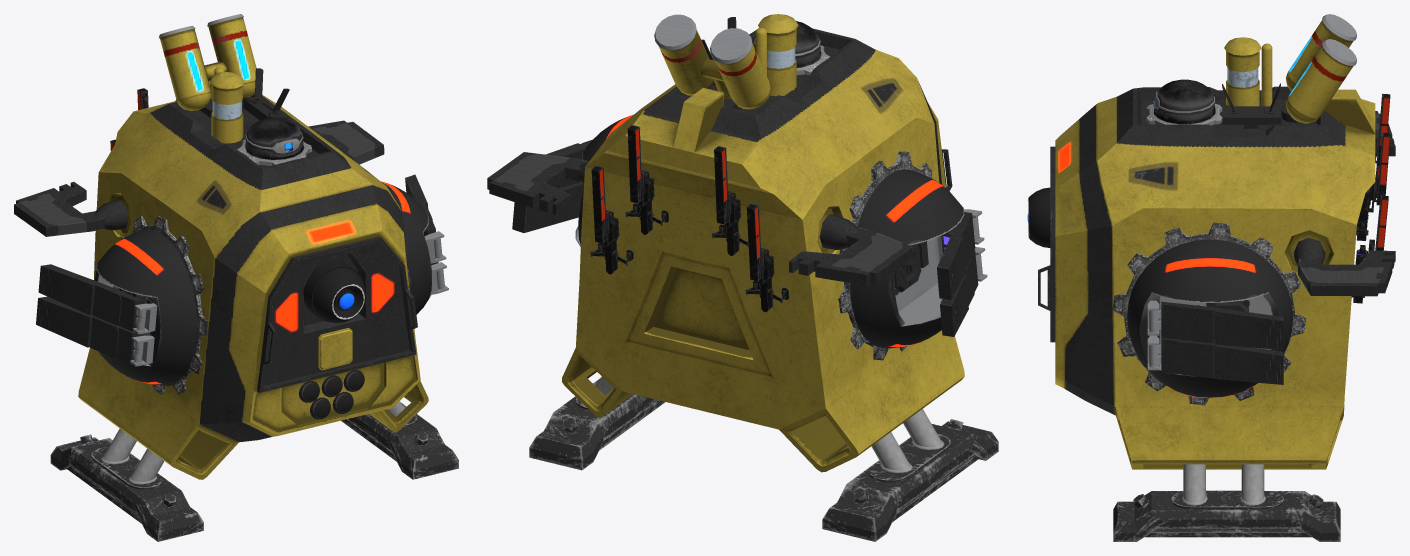
Rendered from Penguin_Green.glb.
3 views of the same model, side by side, from view 1: azimuth 30°, elevation 25°; view 2: azimuth 150°, elevation 25°; view 3: azimuth 270°, elevation 25° (orthographic). The views are drawn at different scales.
Visible parts, largest first — view 1: Penguin; view 2: Penguin; view 3: Penguin.
Part boxes in pixels (left/top/right/bottom): Penguin: left=14, top=14, right=458, bottom=541; Penguin: left=487, top=14, right=998, bottom=541; Penguin: left=1027, top=14, right=1395, bottom=541.
Size of the model in its own units: 1.46 by 1.49 by 1.14.
Materials: 1 (1 with a texture image).
